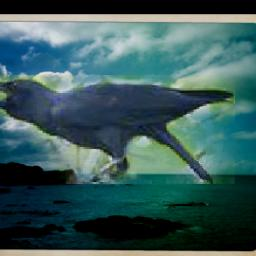Crow: (0, 76, 236, 185)
